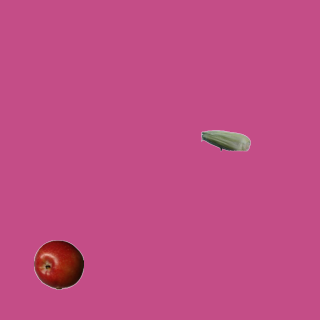Apple Braeburn: (33, 239, 83, 289)
Corn Husk: (200, 115, 250, 165)
